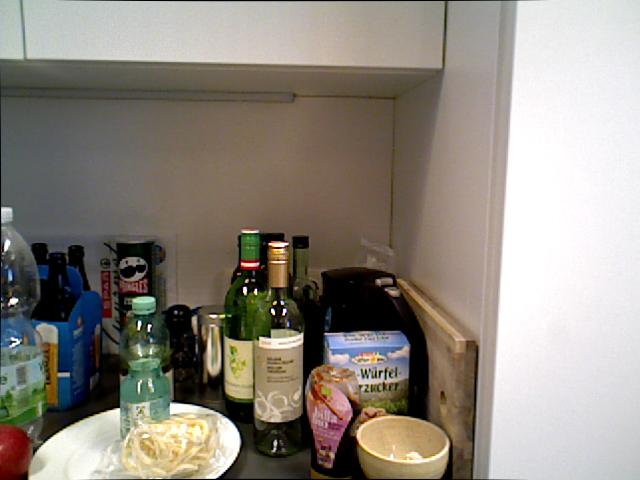apple: (0, 422, 32, 479)
bottle: (251, 240, 305, 457), (0, 206, 47, 443), (30, 251, 88, 411), (222, 228, 268, 423), (118, 295, 173, 401), (66, 244, 102, 392), (119, 357, 171, 440), (163, 303, 199, 402)
bowl: (355, 414, 450, 479)
refrigerator: (437, 0, 640, 480)
